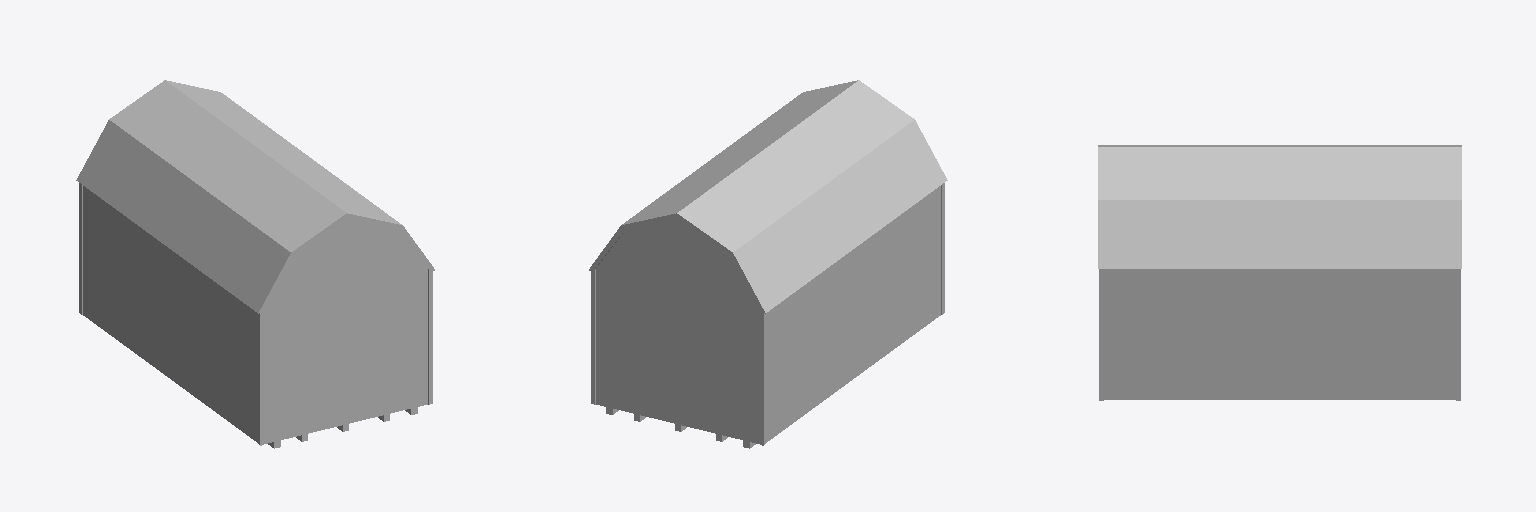
Rendered from Dutch Barn_8x16.obj.
3 renders of one model, left to right at view 1: azimuth 30°, elevation 25°; view 2: azimuth 150°, elevation 25°; view 3: azimuth 270°, elevation 25°, orthographic.
Parts seen in each view (by area): view 1: Dutch Barn_8x16.obj; view 2: Dutch Barn_8x16.obj; view 3: Dutch Barn_8x16.obj.
Boxes of the visible parts, x1=… form: Dutch Barn_8x16.obj: x1=76, y1=80, x2=434, y2=448; Dutch Barn_8x16.obj: x1=589, y1=80, x2=947, y2=448; Dutch Barn_8x16.obj: x1=1098, y1=145, x2=1461, y2=400.
Size of the model in its own units: 2.78 by 3.27 by 4.93.